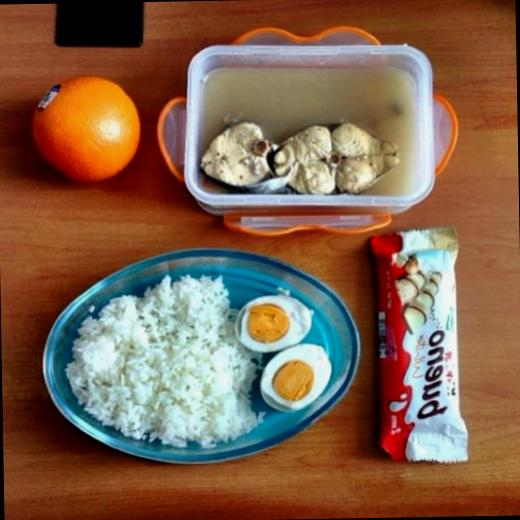Grape: (30, 77, 140, 187)
